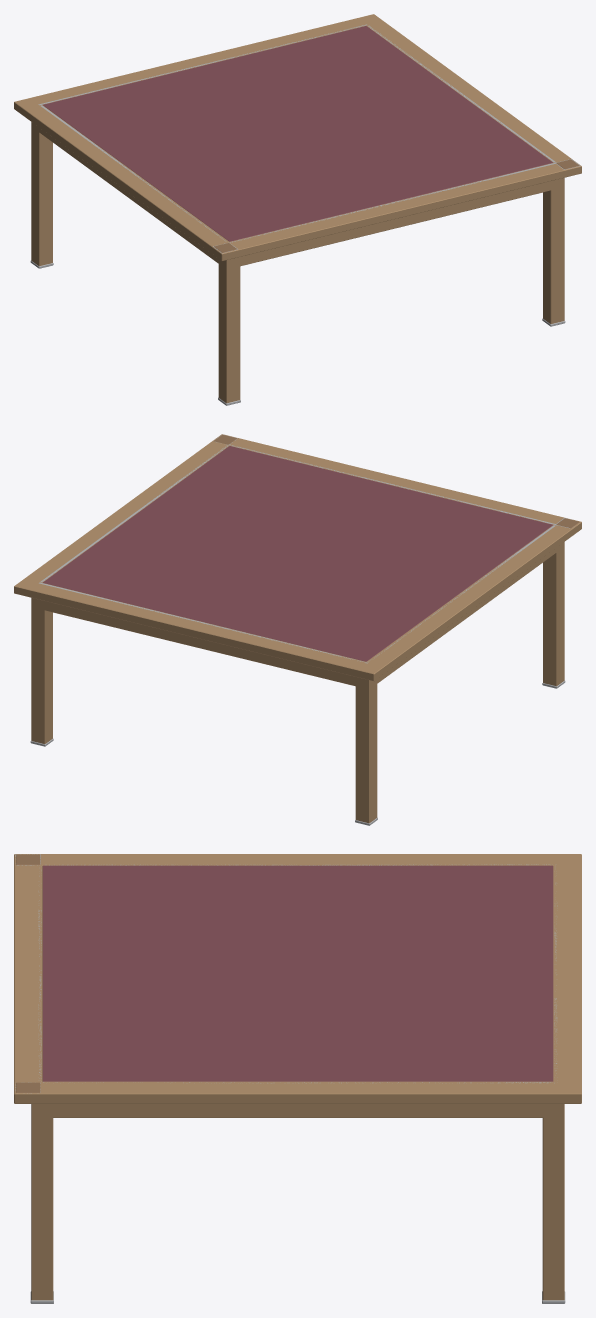
The model's file is prop_play_table_01.glb.
3 renders of one model, top to bottom at view 1: azimuth 30°, elevation 25°; view 2: azimuth 150°, elevation 25°; view 3: azimuth 270°, elevation 25°, orthographic. The views are drawn at different scales.
Parts seen in each view (by area): view 1: prop_play_table_01; view 2: prop_play_table_01; view 3: prop_play_table_01.
Boxes of the visible parts, left/top/right/bottom form: prop_play_table_01: left=14, top=14, right=581, bottom=405; prop_play_table_01: left=14, top=434, right=581, bottom=825; prop_play_table_01: left=14, top=854, right=581, bottom=1303.
Bounding box in the file's own units: 1.8 × 0.761 × 1.8.
